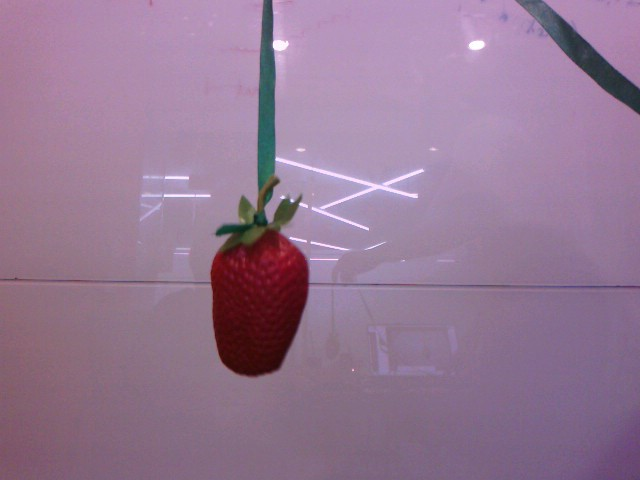strawberry: (204, 221, 315, 378)
